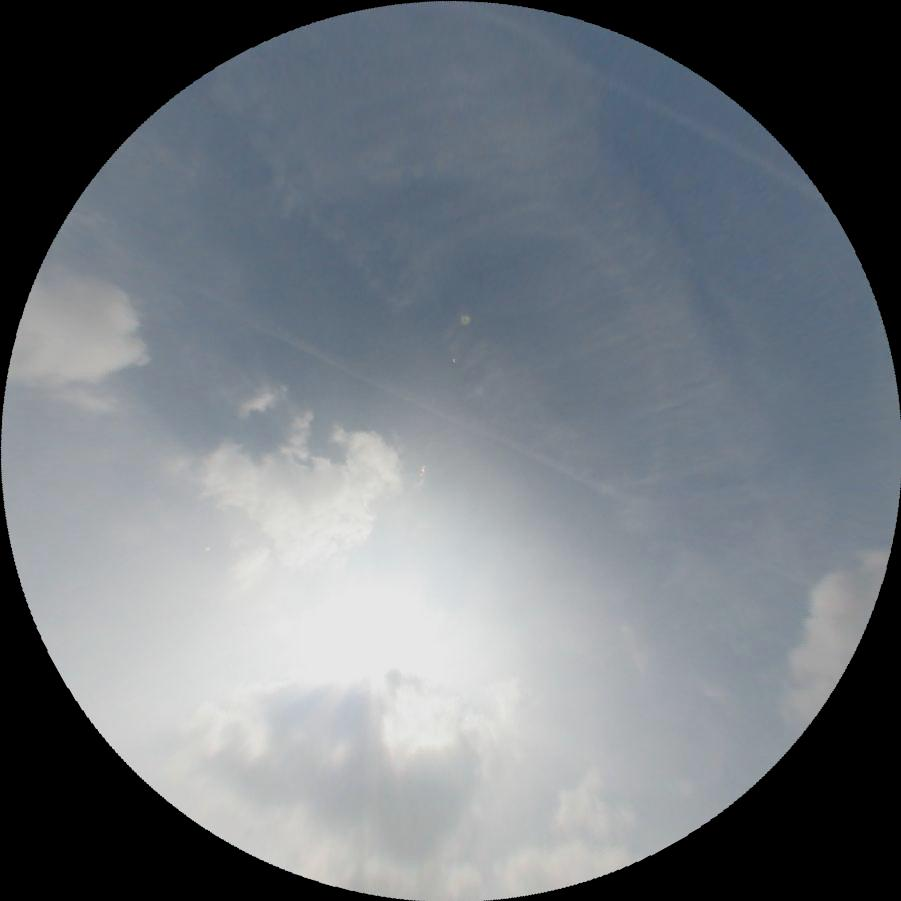contrail old: (206, 299, 643, 513), (463, 0, 833, 206)
sun: (281, 568, 485, 752)
